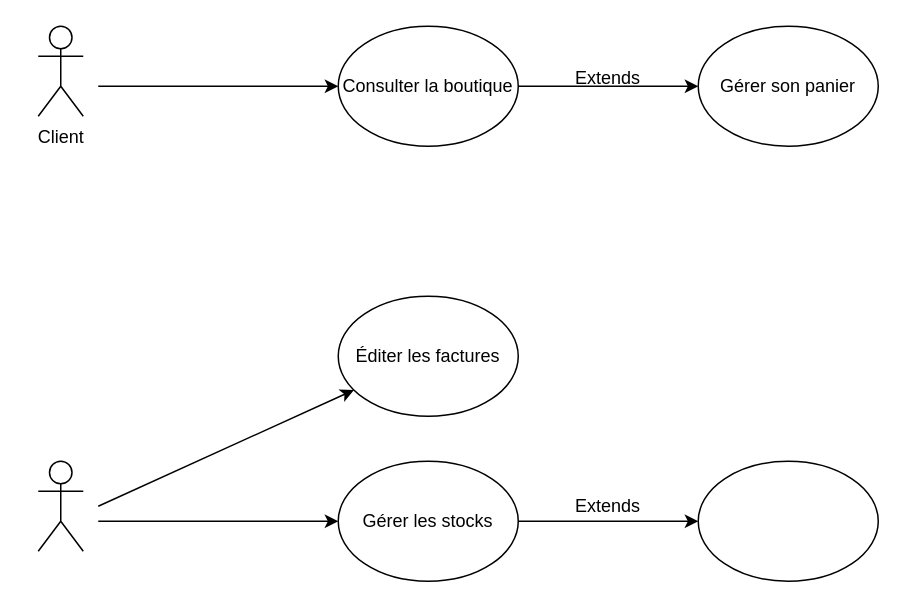
Image size: 905x609. Some labels were removed from this diagram. Each missing label, with the centre of its shape:
Ajouter des articles: the point at 787,520
Employé: the point at 60,505
